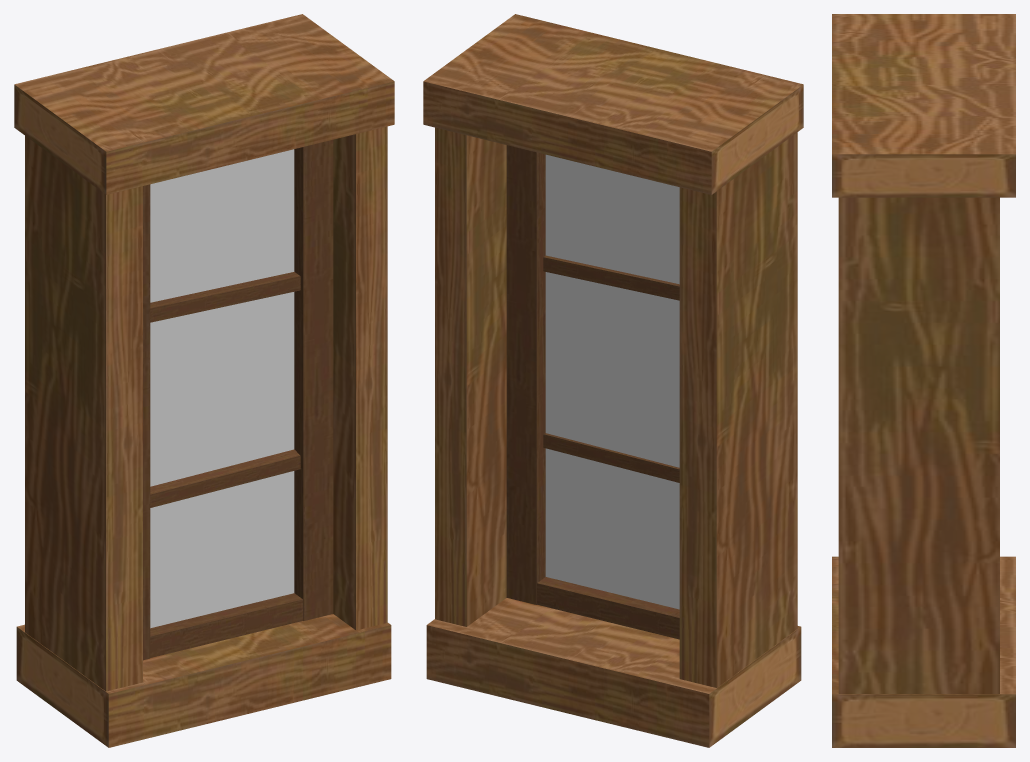
File: window-qm-windowthinflat1.glb
3 renders of one model, left to right at view 1: azimuth 30°, elevation 25°; view 2: azimuth 150°, elevation 25°; view 3: azimuth 270°, elevation 25°, orthographic.
Parts seen in each view (by area): view 1: Cube_151; view 2: Cube_151; view 3: Cube_151.
Boxes of the visible parts, <box> form: Cube_151: <box>14,14,394,747</box>; Cube_151: <box>423,14,803,747</box>; Cube_151: <box>832,14,1015,747</box>.
Size of the model in its own units: 0.788 by 1.56 by 0.4357.
2 materials, 1 textured.
